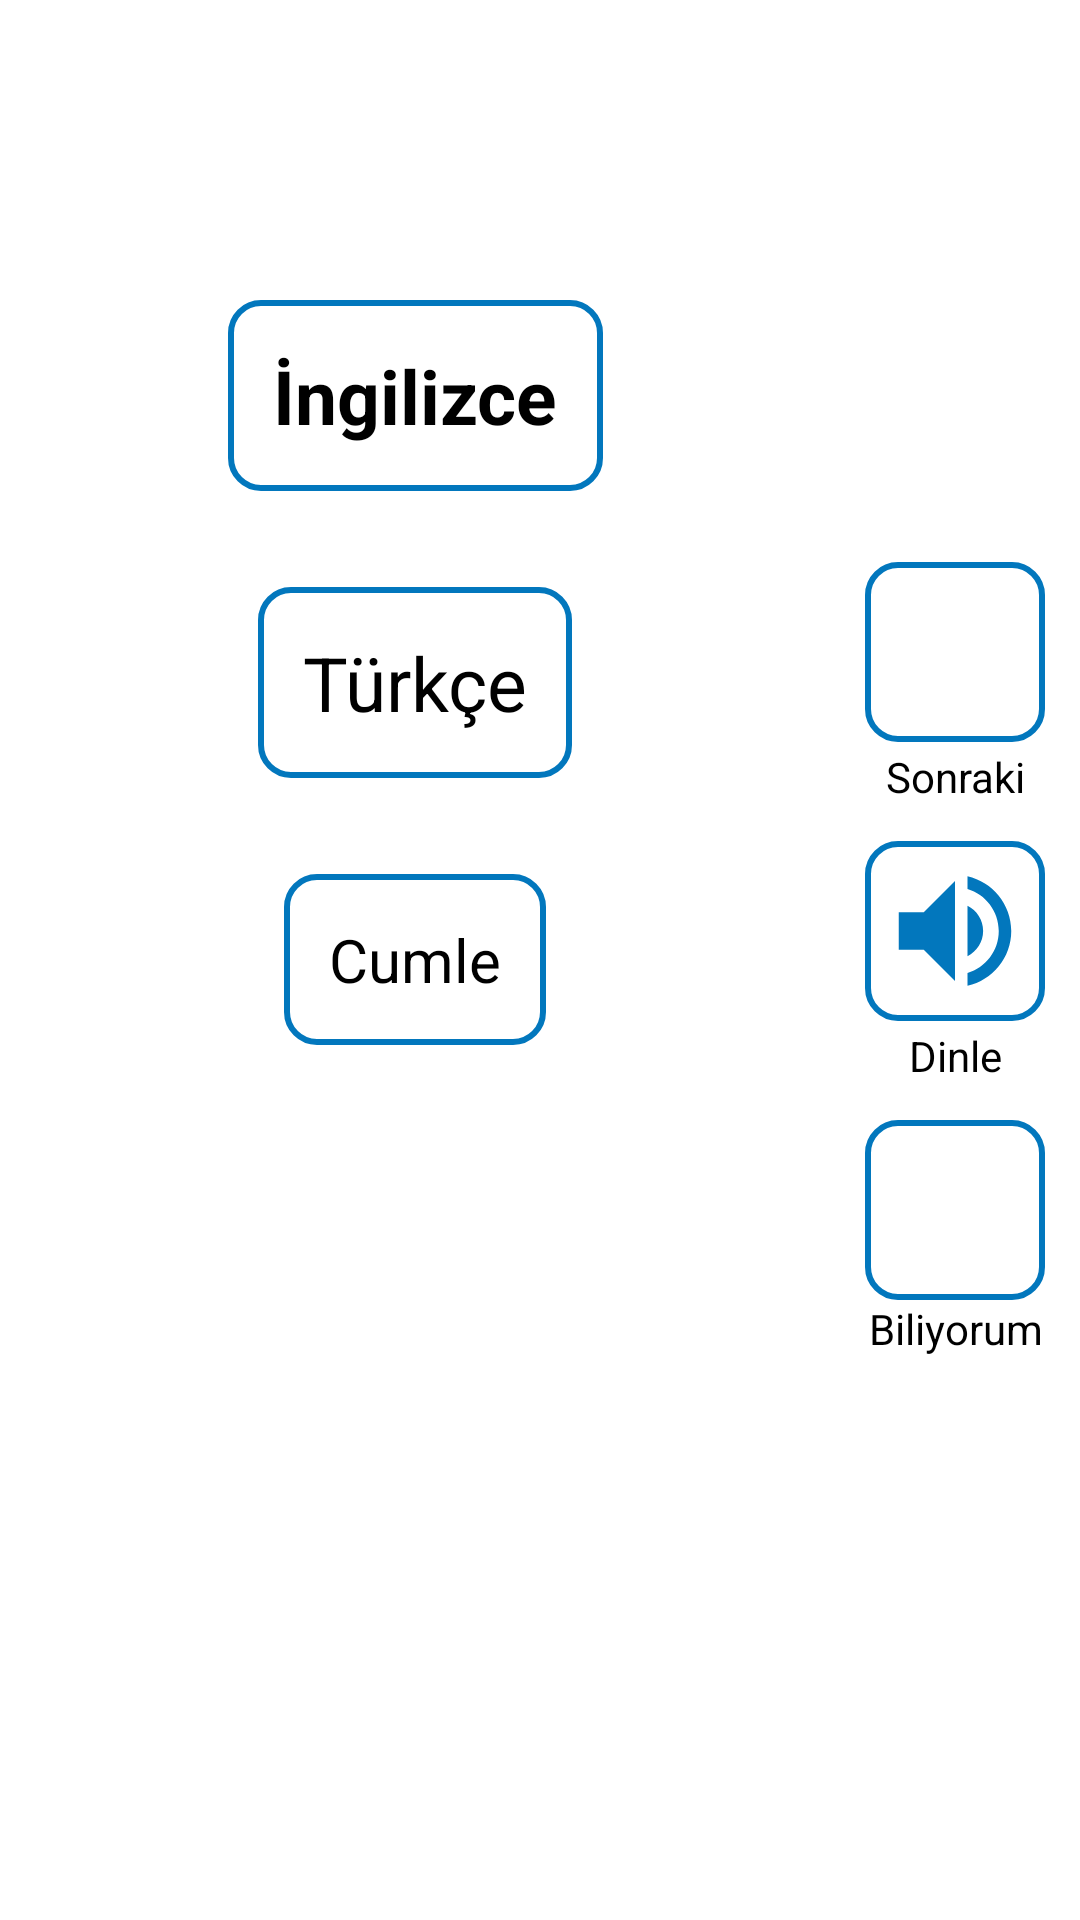

Icon bounding boxes for this 1080w x 1920h phone screenshot, format (x1, y1, x2, y2):
volume up: (865, 841, 1045, 1021)
